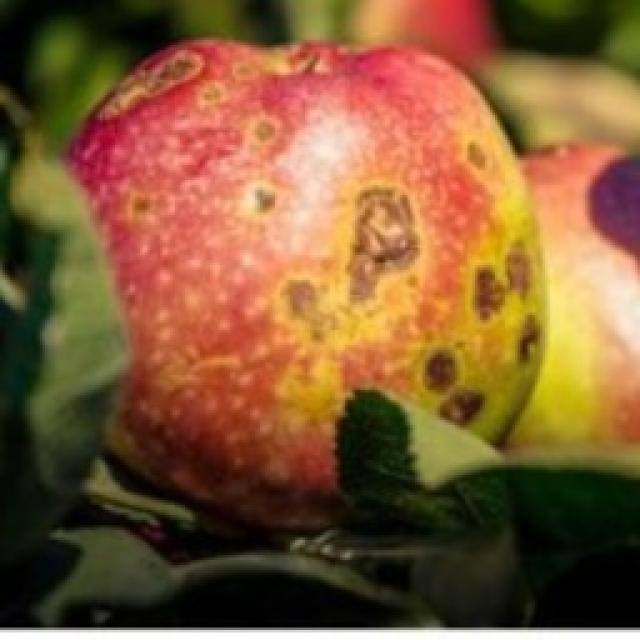defective: (62, 32, 550, 530)
